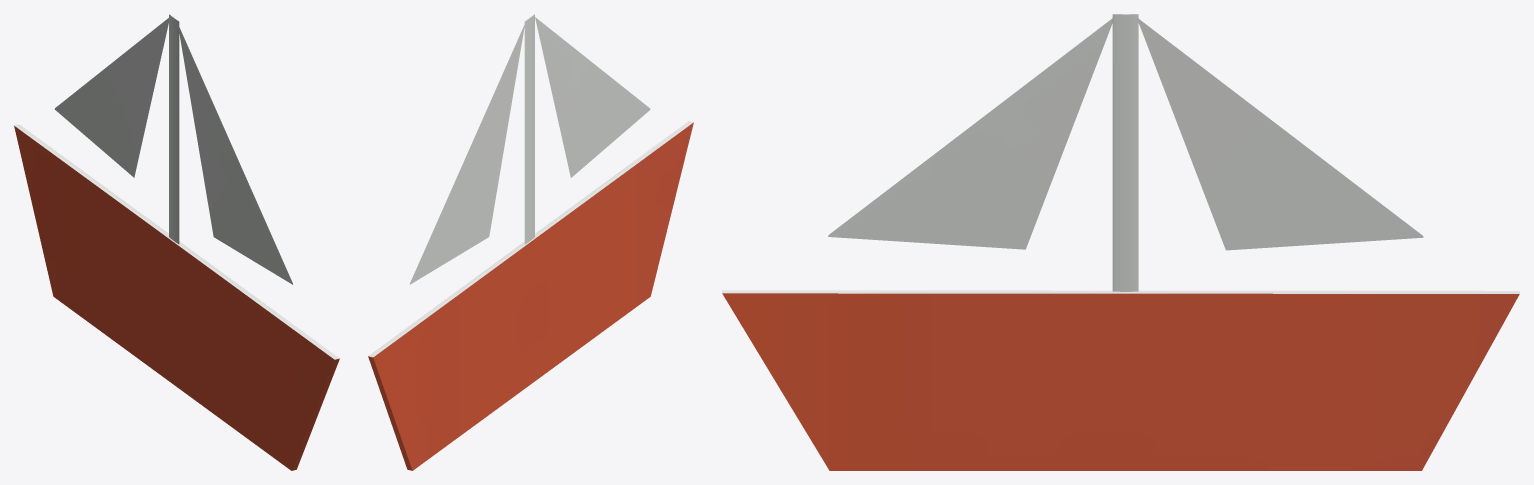
File: Barco.obj
3 renders of one model, left to right at view 1: azimuth 30°, elevation 25°; view 2: azimuth 150°, elevation 25°; view 3: azimuth 270°, elevation 25°, orthographic. The views are drawn at different scales.
Visible parts, largest first — view 1: Plano; view 2: Plano; view 3: Plano.
Part boxes in pixels (bbox=[...]): Plano: bbox=[14, 14, 339, 470]; Plano: bbox=[368, 14, 693, 470]; Plano: bbox=[722, 14, 1519, 470].
Size of the model in its own units: 0.0154 by 1.03 by 1.64.
Materials: 1 (1 with a texture image).
